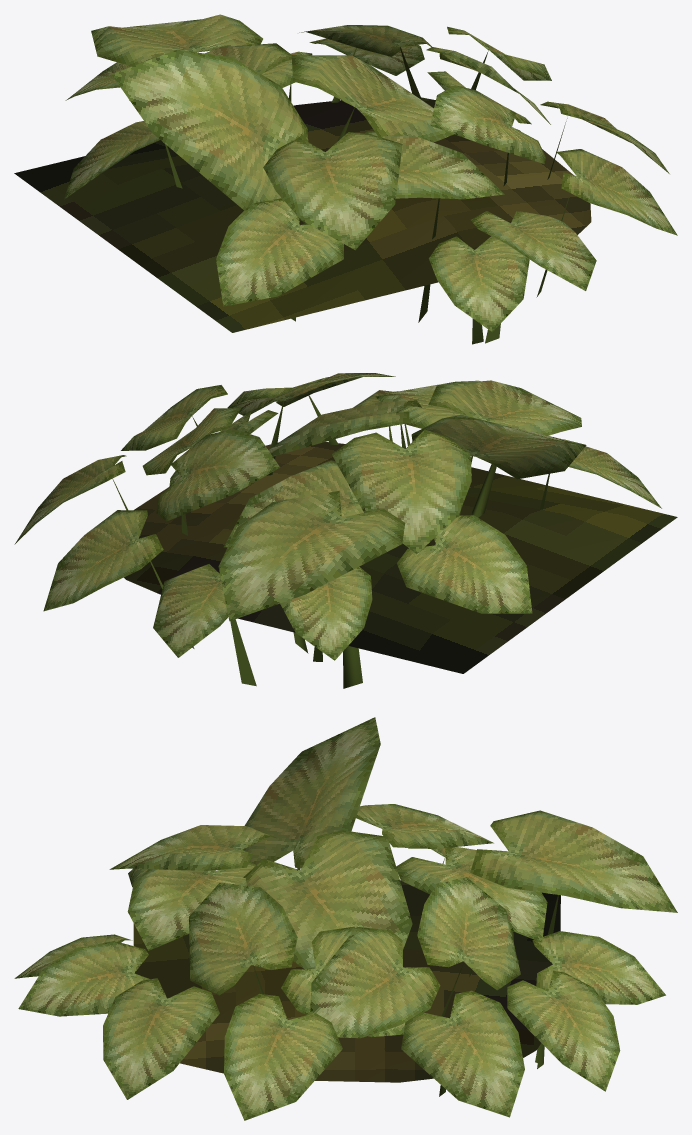
Rendered from Plants_1x1_A.FBX.
The picture shows the model from 3 angles, top to bottom: view 1: azimuth 30°, elevation 25°; view 2: azimuth 150°, elevation 25°; view 3: azimuth 270°, elevation 25°; orthographic projection. The views are drawn at different scales.
Visible parts, largest first — view 1: Plants_1x1_A; view 2: Plants_1x1_A; view 3: Plants_1x1_A.
Boxes of the visible parts, x1,y1,x2,y2 form: Plants_1x1_A: (14,14,677,344); Plants_1x1_A: (14,373,677,688); Plants_1x1_A: (14,717,677,1120).
Bounding box in the file's own units: 1.07 × 0.5056 × 1.24.
